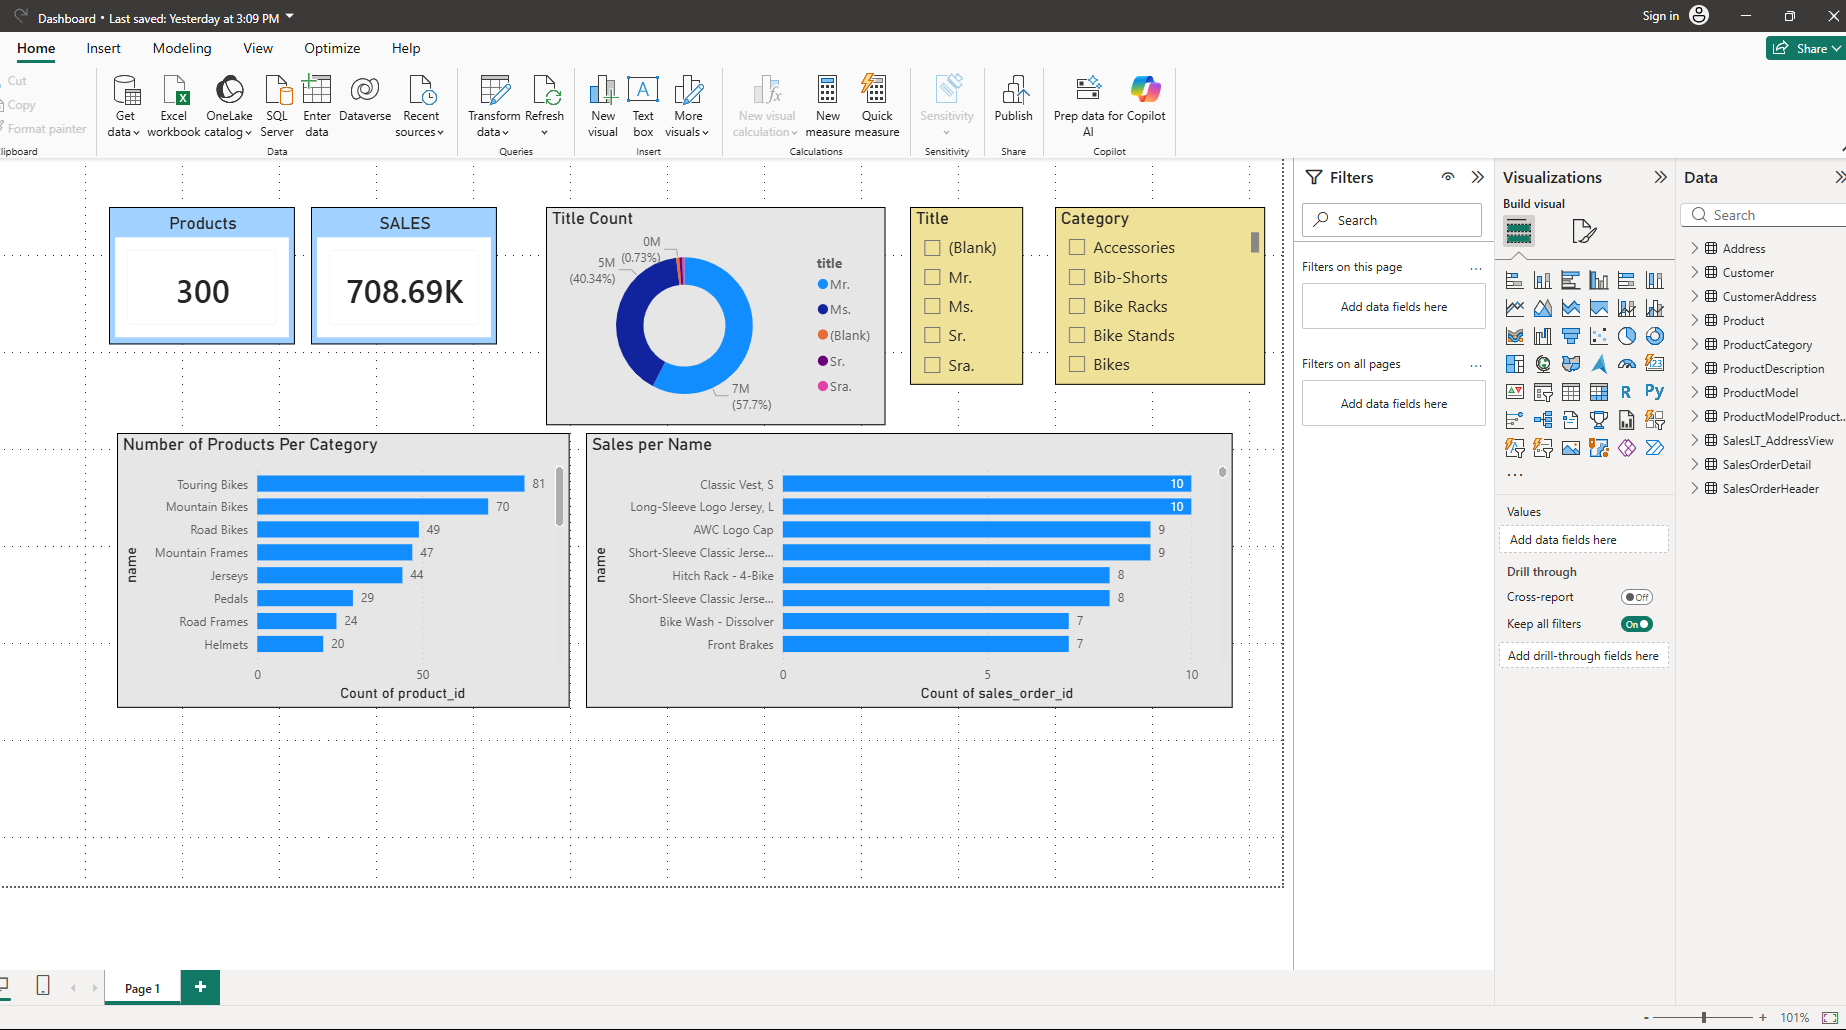

This screenshot's page, from the dashboard's own definition file:
{"tool":"powerbi","page":{"name":"Page 1","canvas":[1280,720],"ordinal":0},"visuals":[{"type":"cardVisual","title":"SALES","fields":{"Data":["Sum(SalesOrderDetail.line_total)"]},"box":[320,48,184,136],"z":0},{"type":"cardVisual","title":"Products","fields":{"Data":["CountNonNull(Product.product_id)"]},"box":[120,48,184,136],"z":1000},{"type":"barChart","title":"Number of Products Per Category","fields":{"Category":["ProductCategory.name"],"Y":["CountNonNull(SalesOrderDetail.product_id)"]},"box":[128,272,448,272],"z":2000},{"type":"donutChart","title":"Title Count","fields":{"Category":["Customer.title"],"Y":["Sum(Customer.customer_id)"]},"box":[552,48,336,216],"z":3000},{"type":"barChart","title":"Sales per Name","fields":{"Category":["Product.name"],"Y":["CountNonNull(SalesOrderDetail.sales_order_id)"]},"box":[592,272,640,272],"z":4000},{"type":"slicer","title":"Title","fields":{"Values":["Customer.title"]},"box":[912,48,112,176],"z":5000},{"type":"slicer","title":"Category","fields":{"Values":["ProductCategory.name"]},"box":[1056,48,208,176],"z":6000}]}

Visuals, with their boxes on the page's 1280x720 design canvas (x1, y1, x2, y2). These are canvas units, not pixel positions in the 1846x1030 screenshot, which may show the page scaled, cropped or inside an application window:
"SALES" cardVisual: 320 48 504 184
"Products" cardVisual: 120 48 304 184
"Number of Products Per Category" barChart: 128 272 576 544
"Title Count" donutChart: 552 48 888 264
"Sales per Name" barChart: 592 272 1232 544
"Title" slicer: 912 48 1024 224
"Category" slicer: 1056 48 1264 224
